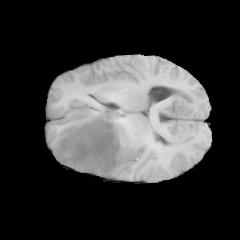glioma: (53, 110, 121, 177)
